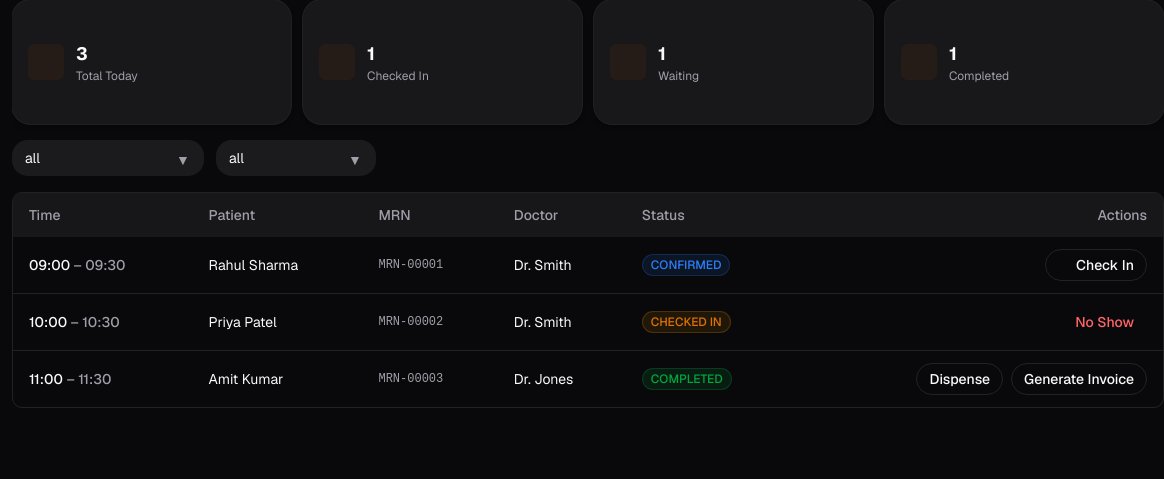
TodaysAppointments › shows error when check-in fails
This screenshot has width=1164, height=479.
Click the button "Check In" at (1096, 265), box [1045,249,1147,281]
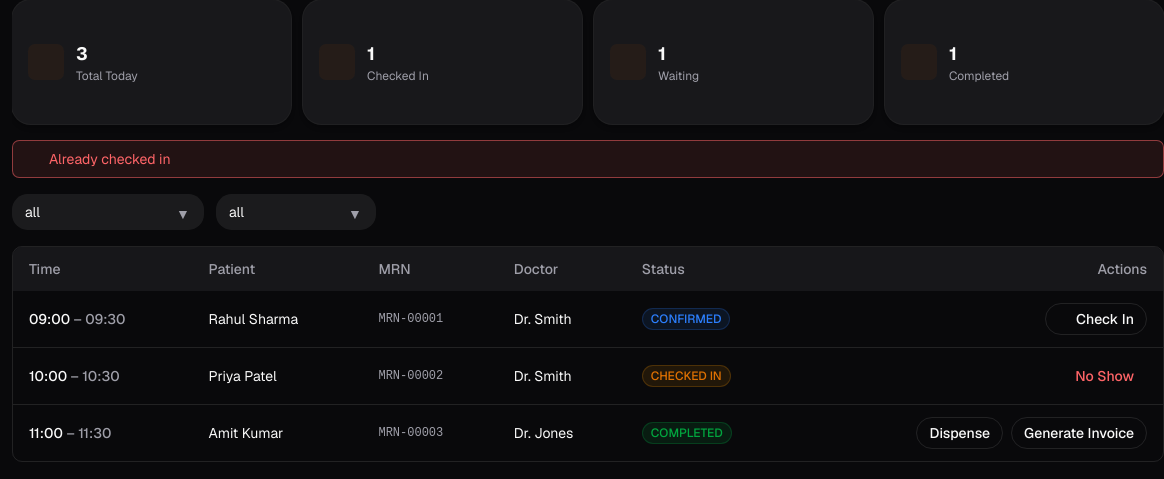
Result: the text "Already checked in" is shown at [12,140,1163,178]
